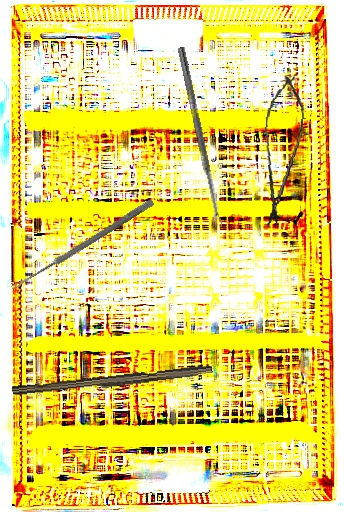Micro Scissor: (254, 71, 309, 232)
Scalpel Handle: (11, 361, 214, 402)
Surgical Spoon: (10, 197, 155, 293), (176, 46, 223, 228)
